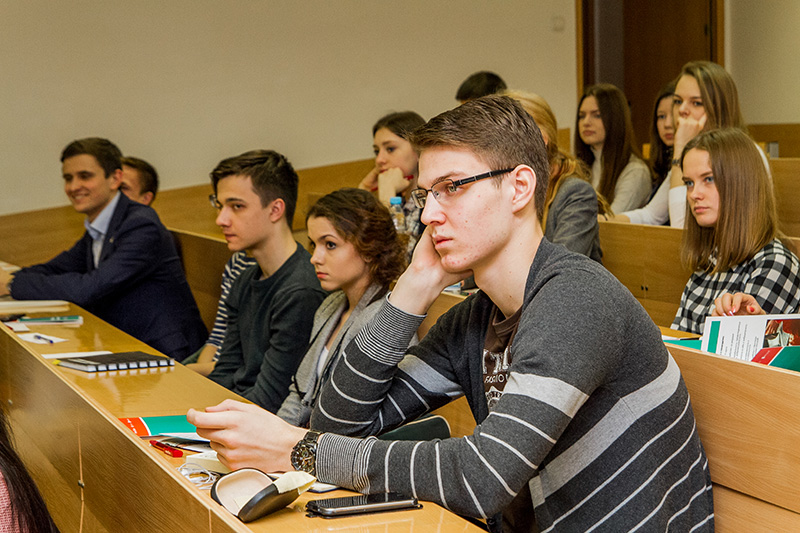students: (187, 94, 711, 531), (1, 135, 207, 348), (274, 185, 405, 423), (206, 146, 318, 406), (672, 125, 800, 346), (612, 60, 743, 228), (498, 85, 608, 271), (569, 82, 653, 223), (358, 107, 434, 243), (651, 83, 681, 189), (113, 155, 160, 213), (453, 65, 509, 107)
